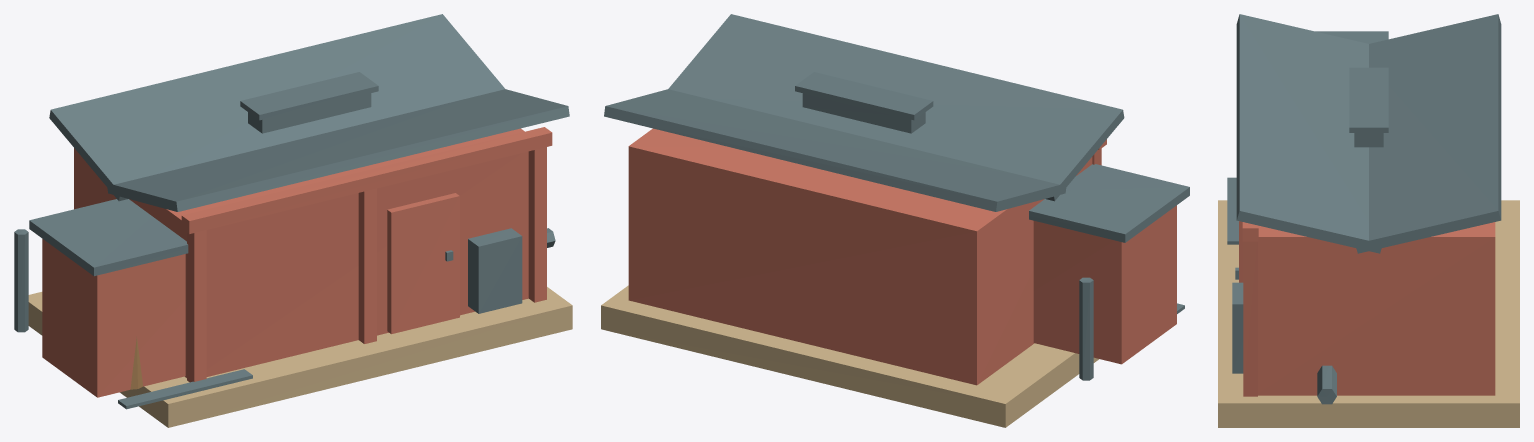
Rendered from fermentation-house.source.glb.
3 renders of one model, left to right at view 1: azimuth 30°, elevation 25°; view 2: azimuth 150°, elevation 25°; view 3: azimuth 270°, elevation 25°, orthographic. The views are drawn at different scales.
Visible parts, largest first — view 1: fermentation-house-shallow-galvanized-gable-roof-mesh (×2), fermentation-house-cream-plaster-processing-body-mesh, fermentation-house-covered-exterior-vat-service-alcove-mesh, fermentation-house-low-masonry-foundation-mesh, fermentation-house-dark-timber-hinged-access-door-mesh, fermentation-house-restrained-timber-frame-post-mesh (×3), fermentation-house-timber-front-eave-beam-mesh, fermentation-house-vat-alcove-roof-mesh, fermentation-house-small-power-service-cabinet-mesh, fermentation-house-ridge-vent-cap-mesh, fermentation-house-roof-ridge-vent-mesh, fermentation-house-clean-drain-channel-cue-mesh (+1 smaller); view 2: fermentation-house-cream-plaster-processing-body-mesh, fermentation-house-shallow-galvanized-gable-roof-mesh (×2), fermentation-house-low-masonry-foundation-mesh, fermentation-house-covered-exterior-vat-service-alcove-mesh, fermentation-house-vat-alcove-roof-mesh, fermentation-house-ridge-vent-cap-mesh, fermentation-house-roof-ridge-vent-mesh, fermentation-house-thin-fermentation-service-pipe-mesh; view 3: fermentation-house-shallow-galvanized-gable-roof-mesh (×2), fermentation-house-cream-plaster-processing-body-mesh, fermentation-house-low-masonry-foundation-mesh, fermentation-house-ridge-vent-cap-mesh, fermentation-house-restrained-timber-frame-post-mesh, fermentation-house-small-power-service-cabinet-mesh, fermentation-house-clean-drain-channel-cue-mesh, fermentation-house-empty-output-service-spout-mesh, fermentation-house-vat-alcove-roof-mesh, fermentation-house-roof-ridge-vent-mesh, fermentation-house-timber-front-eave-beam-mesh.
Boxes of the visible parts, <box> form: fermentation-house-shallow-galvanized-gable-roof-mesh (×2): <box>49,14,569,211</box>; fermentation-house-cream-plaster-processing-body-mesh: <box>74,128,528,377</box>; fermentation-house-covered-exterior-vat-service-alcove-mesh: <box>42,239,185,397</box>; fermentation-house-low-masonry-foundation-mesh: <box>28,287,572,427</box>; fermentation-house-dark-timber-hinged-access-door-mesh: <box>387,193,459,334</box>; fermentation-house-restrained-timber-frame-post-mesh (×3): <box>187,147,546,382</box>; fermentation-house-timber-front-eave-beam-mesh: <box>181,127,552,233</box>; fermentation-house-vat-alcove-roof-mesh: <box>29,199,188,276</box>; fermentation-house-small-power-service-cabinet-mesh: <box>468,228,522,313</box>; fermentation-house-ridge-vent-cap-mesh: <box>240,72,378,120</box>; fermentation-house-roof-ridge-vent-mesh: <box>248,93,371,133</box>; fermentation-house-clean-drain-channel-cue-mesh: <box>118,369,252,409</box>; fermentation-house-cream-plaster-processing-body-mesh: <box>628,128,1092,385</box>; fermentation-house-shallow-galvanized-gable-roof-mesh (×2): <box>604,14,1124,211</box>; fermentation-house-low-masonry-foundation-mesh: <box>601,285,1099,427</box>; fermentation-house-covered-exterior-vat-service-alcove-mesh: <box>1033,205,1176,364</box>; fermentation-house-vat-alcove-roof-mesh: <box>1029,164,1189,242</box>; fermentation-house-ridge-vent-cap-mesh: <box>795,72,933,120</box>; fermentation-house-roof-ridge-vent-mesh: <box>802,93,925,133</box>; fermentation-house-thin-fermentation-service-pipe-mesh: <box>1079,277,1093,380</box>; fermentation-house-shallow-galvanized-gable-roof-mesh (×2): <box>1236,14,1501,253</box>; fermentation-house-cream-plaster-processing-body-mesh: <box>1258,222,1495,395</box>; fermentation-house-low-masonry-foundation-mesh: <box>1218,200,1519,427</box>; fermentation-house-ridge-vent-cap-mesh: <box>1349,67,1388,132</box>; fermentation-house-restrained-timber-frame-post-mesh: <box>1243,241,1257,396</box>; fermentation-house-small-power-service-cabinet-mesh: <box>1232,282,1243,373</box>; fermentation-house-clean-drain-channel-cue-mesh: <box>1227,177,1238,244</box>; fermentation-house-empty-output-service-spout-mesh: <box>1317,365,1336,404</box>; fermentation-house-vat-alcove-roof-mesh: <box>1315,31,1388,43</box>; fermentation-house-roof-ridge-vent-mesh: <box>1354,133,1383,147</box>; fermentation-house-timber-front-eave-beam-mesh: <box>1242,222,1258,241</box>.
Size of the model in its own units: 4.74 by 2.1 by 2.45.
